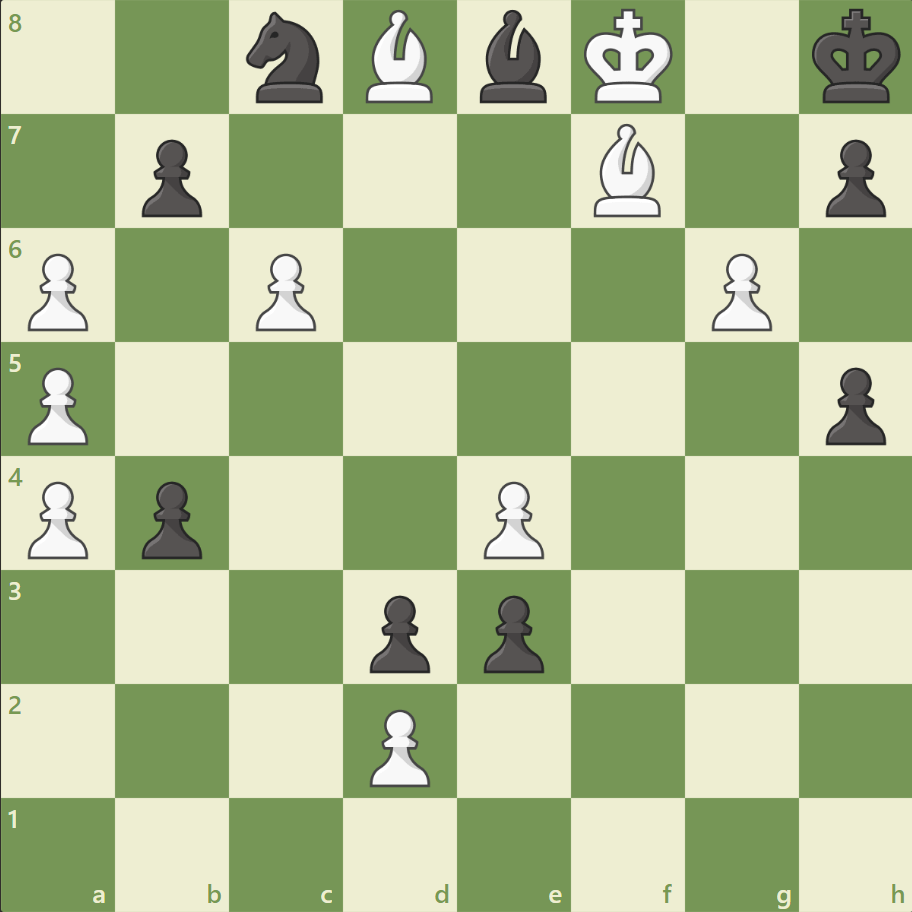B: (358, 6, 442, 109), (585, 120, 669, 222)
K: (579, 4, 679, 112)
P: (20, 246, 95, 337), (247, 246, 322, 337), (701, 246, 776, 337), (20, 359, 95, 450), (20, 473, 95, 564), (474, 473, 549, 564), (361, 700, 435, 791)
b: (471, 6, 555, 109)
k: (806, 4, 906, 112)
n: (238, 7, 335, 110)
p: (133, 132, 208, 223), (133, 473, 208, 564), (474, 586, 549, 677), (815, 132, 889, 223), (815, 359, 889, 450), (361, 586, 435, 677)
